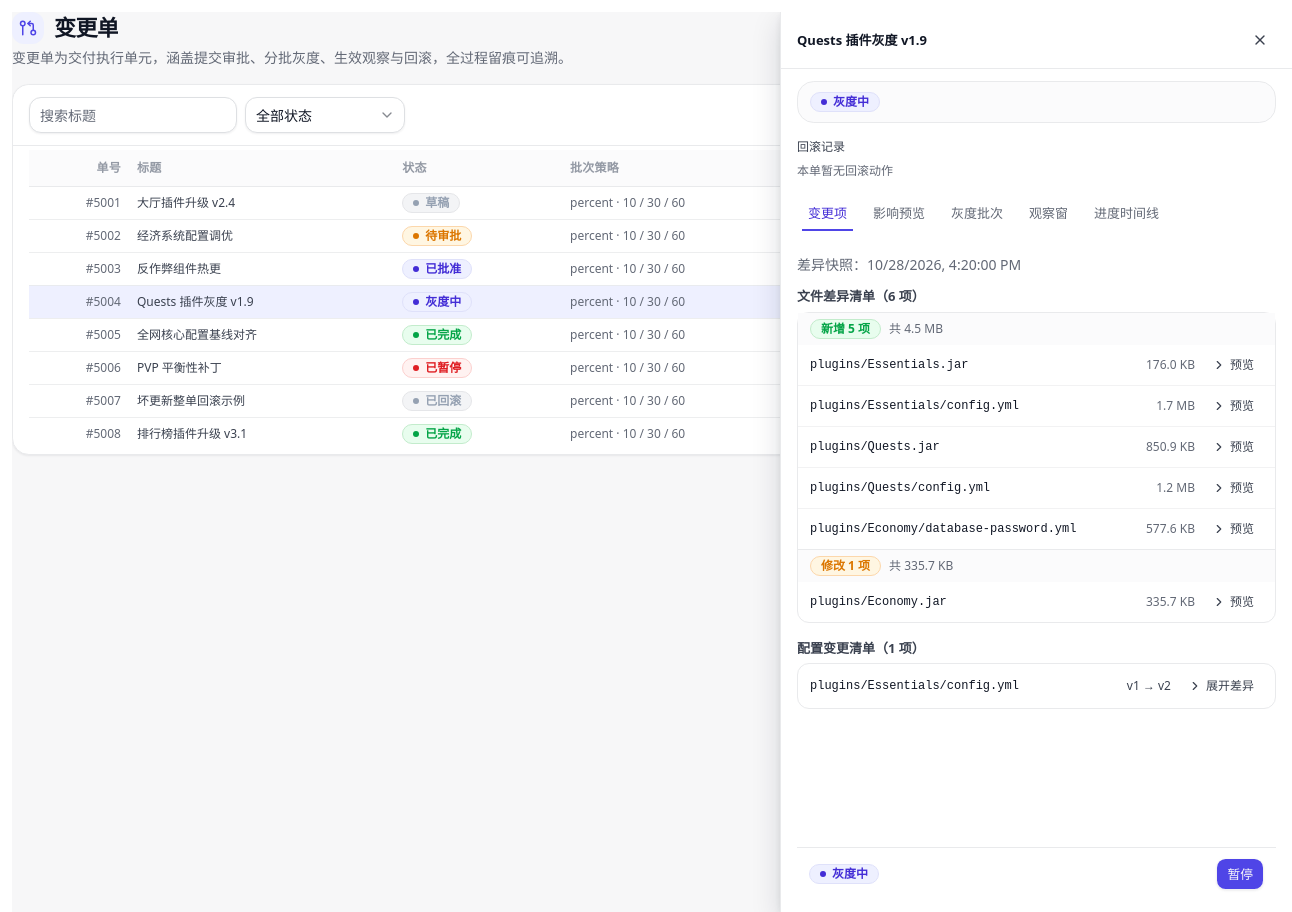
Scenario: 变更单进度事件 SSE › 流结束后回退轮询：立刻关闭的流不阻塞快照展示
Expected: the button named "返回列表" is shown, [1244,24,1276,56]
Click the tab "进度时间线". click: click(1127, 213)
box: [1083,195,1170,231]
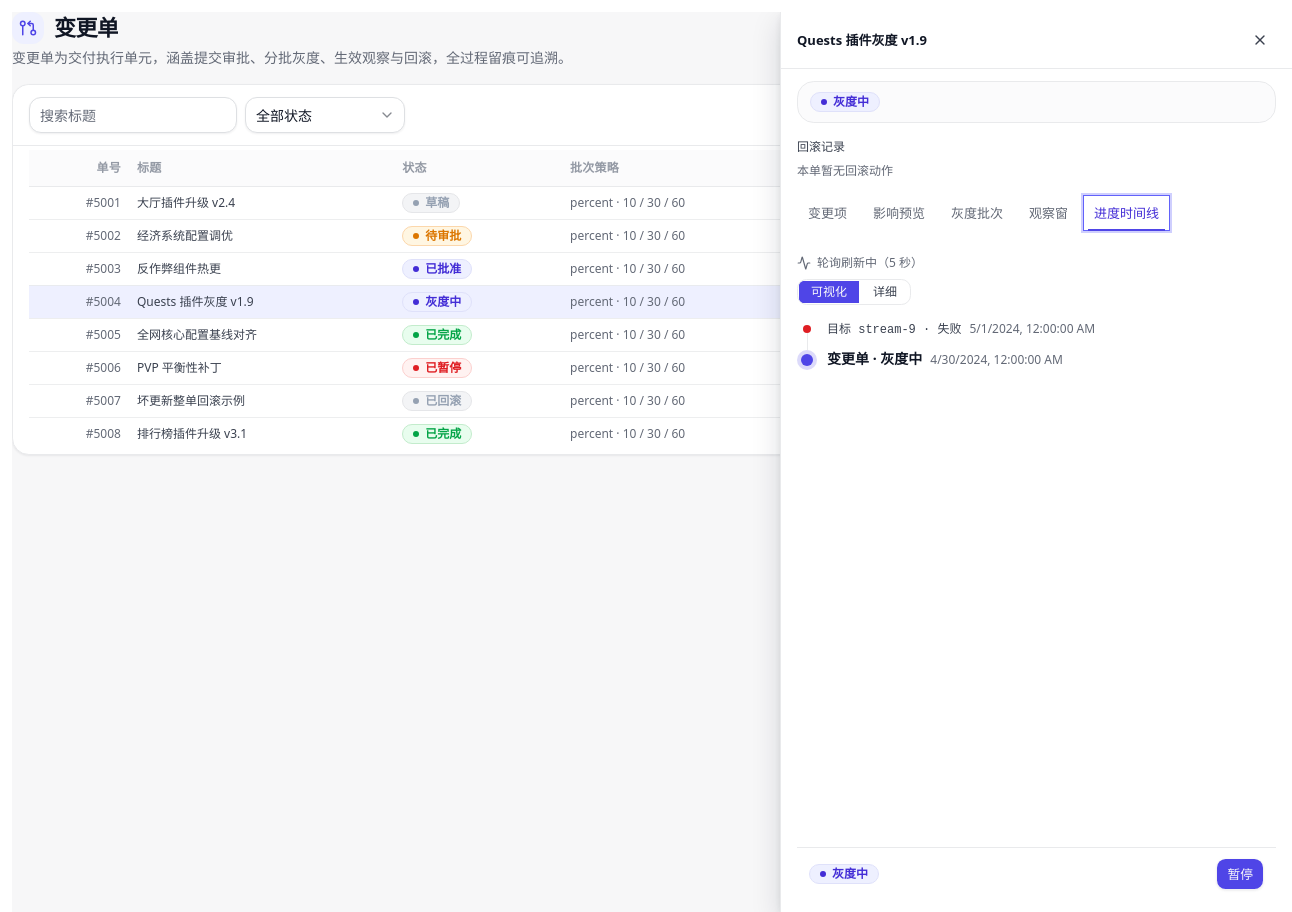
Now the text "目标 stream-9 · 失败" is shown, box [827,322,961,338]
Now the text "变更单 · 灰度中" is shown, box [827,350,922,368]
Now the text "轮询刷新中（5 秒）" is shown, box [797,254,923,271]
